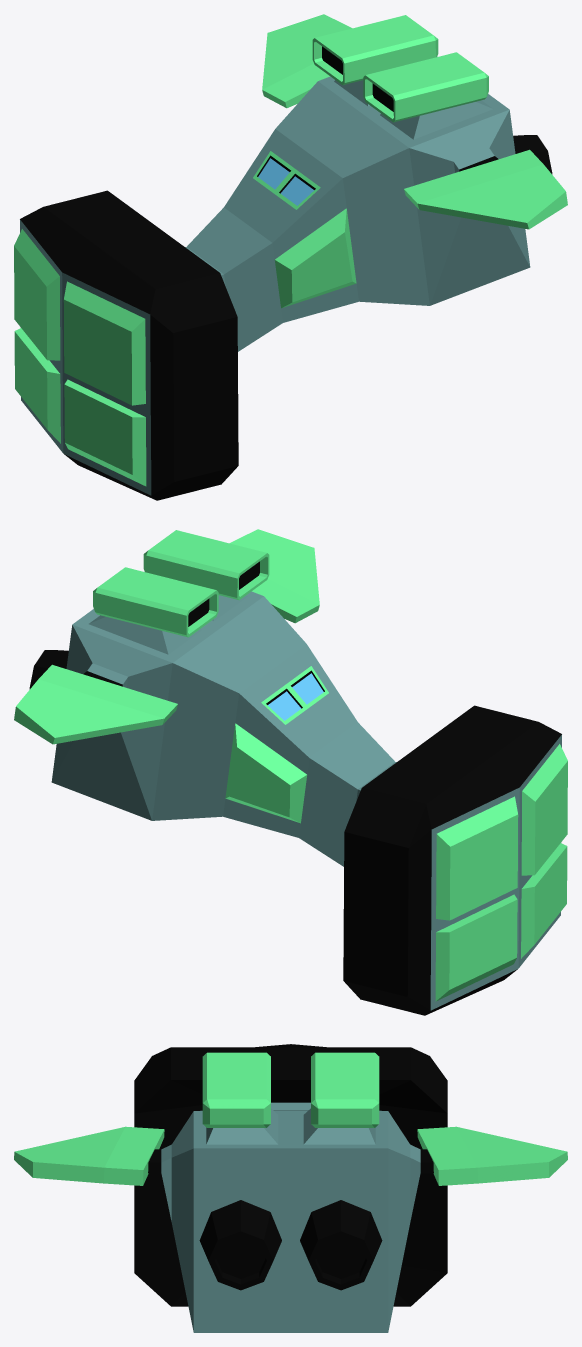
Rendered from defender3.fbx.
3 renders of one model, top to bottom at view 1: azimuth 30°, elevation 25°; view 2: azimuth 150°, elevation 25°; view 3: azimuth 270°, elevation 25°, orthographic. The views are drawn at different scales.
Parts seen in each view (by area): view 1: Defender3; view 2: Defender3; view 3: Defender3.
Boxes of the visible parts, x1,y1,x2,y2 form: Defender3: (14,14,567,500); Defender3: (14,529,567,1015); Defender3: (14,1044,567,1332).
Size of the model in its own units: 566 by 392 by 556.
